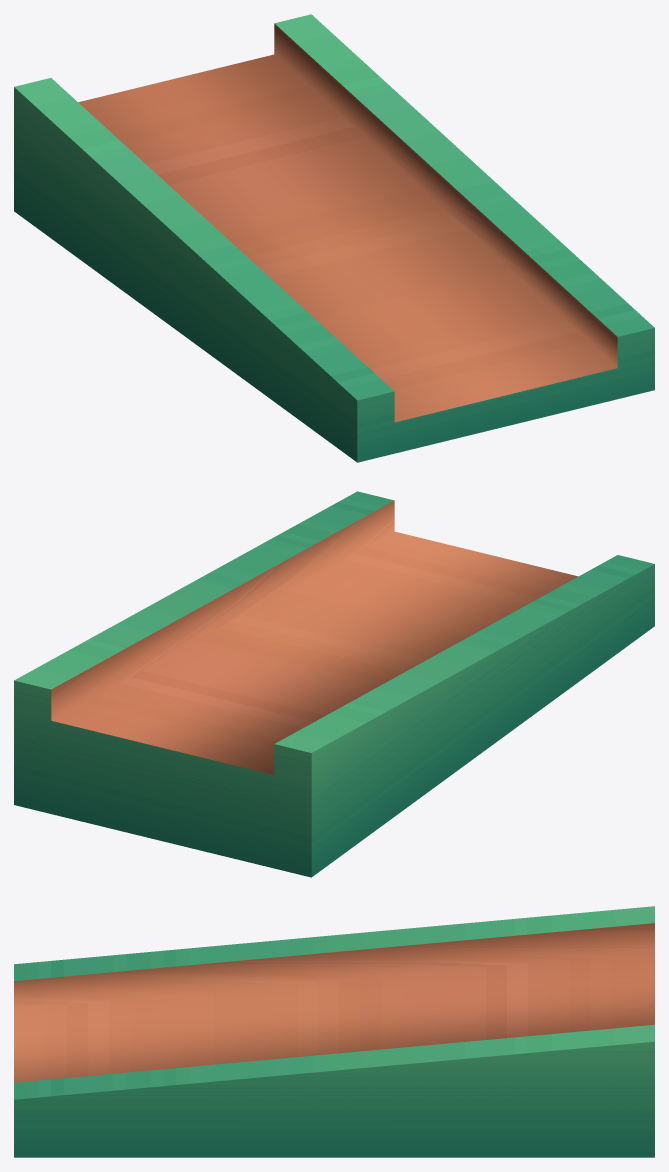
Rendered from tile-straight-slope-large.glb.
The picture shows the model from 3 angles, top to bottom: view 1: azimuth 30°, elevation 25°; view 2: azimuth 150°, elevation 25°; view 3: azimuth 270°, elevation 25°; orthographic projection. The views are drawn at different scales.
Visible parts, largest first — view 1: tile-straight-slope-large; view 2: tile-straight-slope-large; view 3: tile-straight-slope-large.
Part boxes in pixels (x1,y1,x2,y2): tile-straight-slope-large: (14, 14, 654, 462); tile-straight-slope-large: (14, 491, 654, 877); tile-straight-slope-large: (14, 906, 654, 1157).
Bounding box in the file's own units: 1 × 0.3999 × 2.
Materials: 1 (1 with a texture image).
